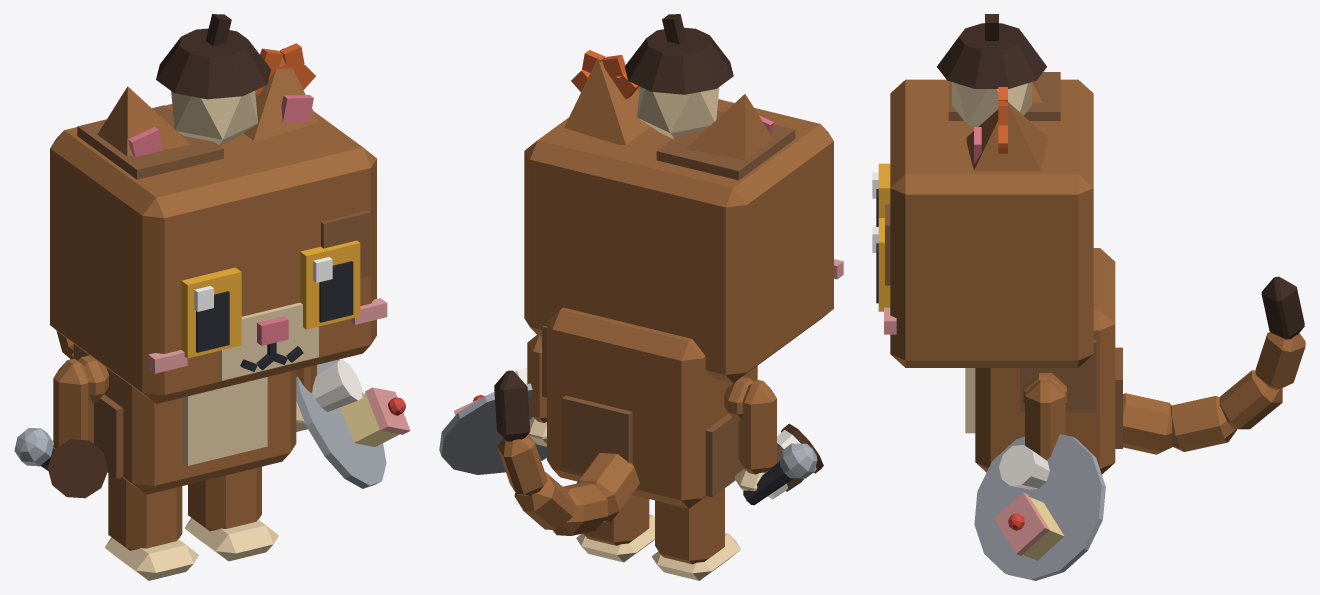
File: CatCafe_Cat_AcornCap_Work.fbx
3 renders of one model, left to right at view 1: azimuth 30°, elevation 25°; view 2: azimuth 150°, elevation 25°; view 3: azimuth 270°, elevation 25°, orthographic. The views are drawn at different scales.
Visible parts, largest first — view 1: CatCafe_Cat_AcornCap_Work_Head, CatCafe_Cat_AcornCap_Work_Body, CatCafe_Cat_AcornCap_Work_Prop, CatCafe_Cat_AcornCap_Work_Held_Waiter, CatCafe_Cat_AcornCap_Work_LegB2, CatCafe_Cat_AcornCap_Work_LegB1, CatCafe_Cat_AcornCap_Work_Eye2, CatCafe_Cat_AcornCap_Work_Eye1, CatCafe_Cat_AcornCap_Work_EarR, CatCafe_Cat_AcornCap_Work_EarL, CatCafe_Cat_AcornCap_Work_LegF2, CatCafe_Cat_AcornCap_Work_Held_Barista (+2 smaller); view 2: CatCafe_Cat_AcornCap_Work_Head, CatCafe_Cat_AcornCap_Work_Body, CatCafe_Cat_AcornCap_Work_Prop, CatCafe_Cat_AcornCap_Work_Tail, CatCafe_Cat_AcornCap_Work_LegB2, CatCafe_Cat_AcornCap_Work_Held_Waiter, CatCafe_Cat_AcornCap_Work_EarL, CatCafe_Cat_AcornCap_Work_LegF2, CatCafe_Cat_AcornCap_Work_EarR, CatCafe_Cat_AcornCap_Work_LegB1, CatCafe_Cat_AcornCap_Work_Held_Entertainer, CatCafe_Cat_AcornCap_Work_LegF1 (+1 smaller); view 3: CatCafe_Cat_AcornCap_Work_Head, CatCafe_Cat_AcornCap_Work_Held_Waiter, CatCafe_Cat_AcornCap_Work_Body, CatCafe_Cat_AcornCap_Work_Tail, CatCafe_Cat_AcornCap_Work_Prop, CatCafe_Cat_AcornCap_Work_EarL, CatCafe_Cat_AcornCap_Work_LegF1, CatCafe_Cat_AcornCap_Work_Eye1, CatCafe_Cat_AcornCap_Work_Eye2.
Part boxes in pixels (x1=…): CatCafe_Cat_AcornCap_Work_Head: x1=50, y1=104, x2=387, y2=403; CatCafe_Cat_AcornCap_Work_Body: x1=73, y1=344, x2=296, y2=494; CatCafe_Cat_AcornCap_Work_Prop: x1=156, y1=14, x2=315, y2=145; CatCafe_Cat_AcornCap_Work_Held_Waiter: x1=296, y1=359, x2=410, y2=488; CatCafe_Cat_AcornCap_Work_LegB2: x1=105, y1=473, x2=198, y2=580; CatCafe_Cat_AcornCap_Work_LegB1: x1=184, y1=466, x2=278, y2=561; CatCafe_Cat_AcornCap_Work_Eye2: x1=181, y1=267, x2=241, y2=358; CatCafe_Cat_AcornCap_Work_Eye1: x1=300, y1=240, x2=360, y2=329; CatCafe_Cat_AcornCap_Work_EarR: x1=97, y1=86, x2=190, y2=156; CatCafe_Cat_AcornCap_Work_EarL: x1=243, y1=48, x2=318, y2=140; CatCafe_Cat_AcornCap_Work_LegF2: x1=53, y1=358, x2=93, y2=448; CatCafe_Cat_AcornCap_Work_Held_Barista: x1=47, y1=439, x2=108, y2=498; CatCafe_Cat_AcornCap_Work_Head: x1=524, y1=86, x2=843, y2=383; CatCafe_Cat_AcornCap_Work_Body: x1=542, y1=307, x2=757, y2=508; CatCafe_Cat_AcornCap_Work_Prop: x1=571, y1=14, x2=733, y2=138; CatCafe_Cat_AcornCap_Work_Tail: x1=494, y1=370, x2=639, y2=535; CatCafe_Cat_AcornCap_Work_LegB2: x1=652, y1=488, x2=740, y2=580; CatCafe_Cat_AcornCap_Work_Held_Waiter: x1=439, y1=368, x2=546, y2=474; CatCafe_Cat_AcornCap_Work_EarL: x1=564, y1=58, x2=650, y2=144; CatCafe_Cat_AcornCap_Work_LegF2: x1=734, y1=379, x2=776, y2=491; CatCafe_Cat_AcornCap_Work_EarR: x1=685, y1=94, x2=773, y2=160; CatCafe_Cat_AcornCap_Work_LegB1: x1=576, y1=495, x2=654, y2=562; CatCafe_Cat_AcornCap_Work_Held_Entertainer: x1=743, y1=443, x2=817, y2=505; CatCafe_Cat_AcornCap_Work_LegF1: x1=527, y1=335, x2=546, y2=446; CatCafe_Cat_AcornCap_Work_Head: x1=884, y1=72, x2=1093, y2=367; CatCafe_Cat_AcornCap_Work_Held_Waiter: x1=974, y1=434, x2=1105, y2=580; CatCafe_Cat_AcornCap_Work_Body: x1=965, y1=248, x2=1122, y2=474; CatCafe_Cat_AcornCap_Work_Tail: x1=1123, y1=276, x2=1305, y2=454; CatCafe_Cat_AcornCap_Work_Prop: x1=937, y1=14, x2=1046, y2=153; CatCafe_Cat_AcornCap_Work_EarL: x1=966, y1=101, x2=1047, y2=170; CatCafe_Cat_AcornCap_Work_LegF1: x1=1025, y1=379, x2=1065, y2=460; CatCafe_Cat_AcornCap_Work_Eye1: x1=872, y1=218, x2=890, y2=311; CatCafe_Cat_AcornCap_Work_Eye2: x1=872, y1=163, x2=890, y2=226.
Size of the model in its own units: 1.53 by 2.14 by 1.62.
1 material, 1 textured.
